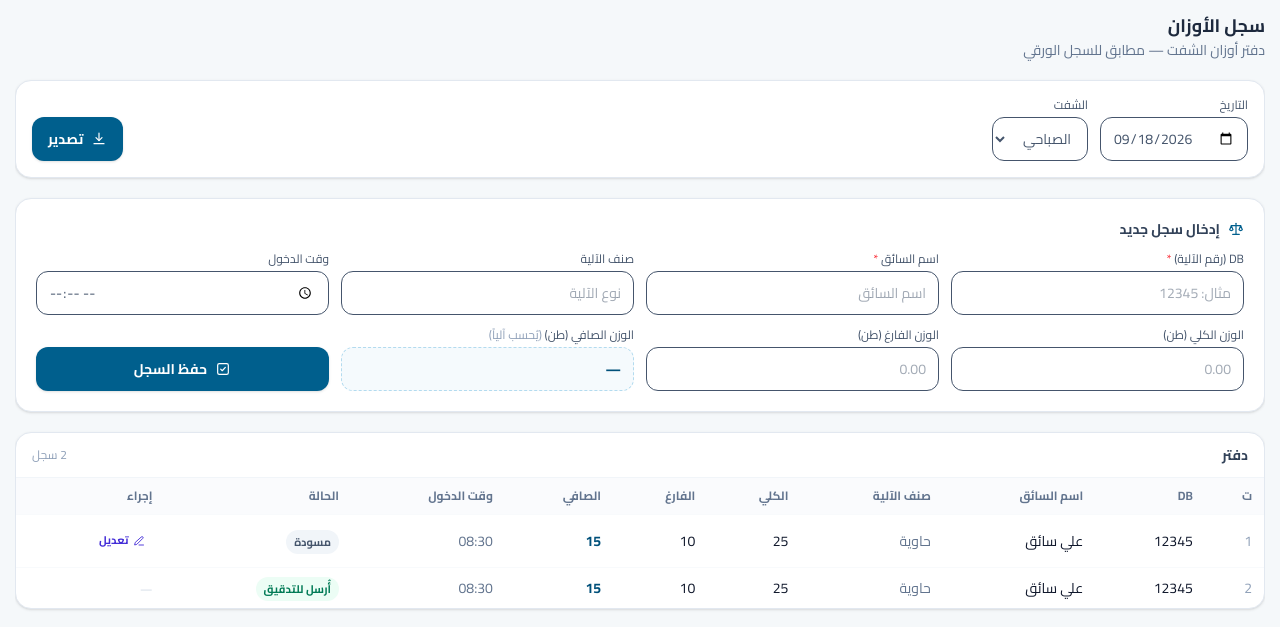
Test: WeightsPage — التعديل › زر تعديل يظهر للمسودات فقط ويملأ النموذج ببيانات السجل
The image size is (1280, 627).
Click the button with test id "edit-w1". click: coordinates (122, 541)
box: [91,525,152,557]
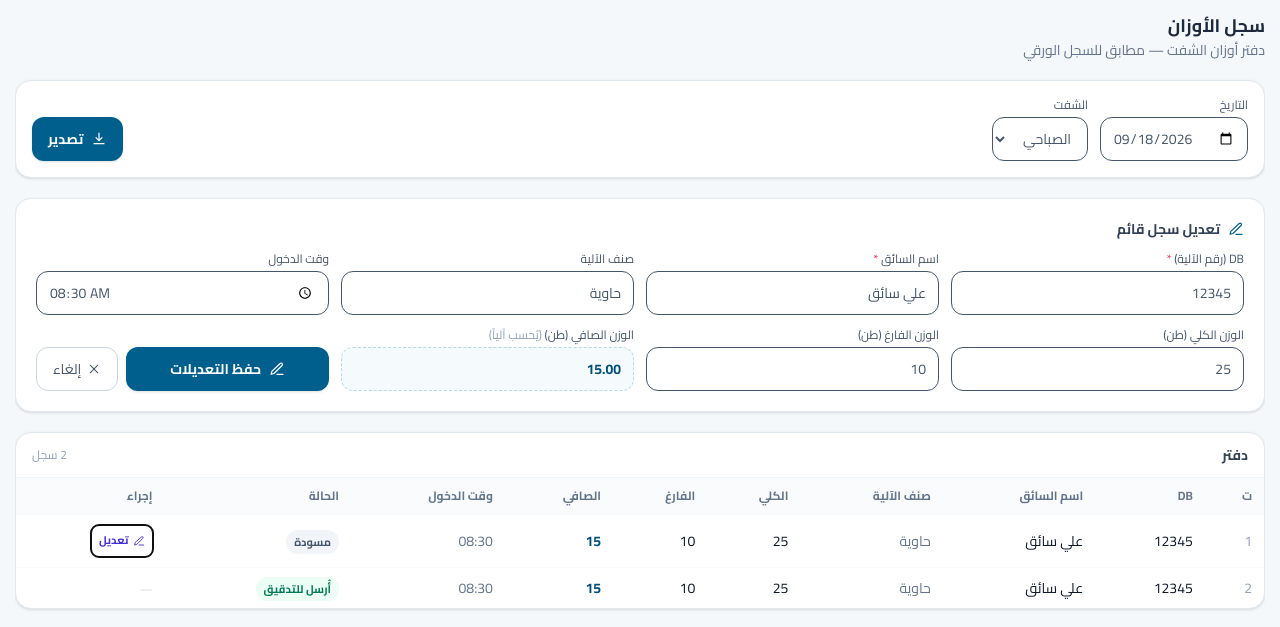
Expected: the field with test id "f-db" holds "12345", [951,271,1244,315]
Expected: the field with test id "f-driver" holds "علي سائق", [646,271,939,315]
Expected: the heading "تعديل سجل قائم" is shown, [1117,216,1244,242]
